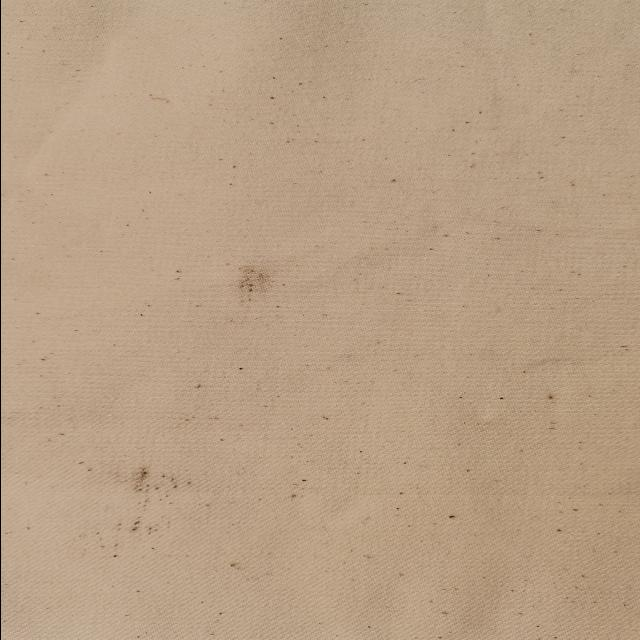taaaches: (228, 257, 284, 301), (124, 464, 198, 494), (100, 516, 162, 538)
